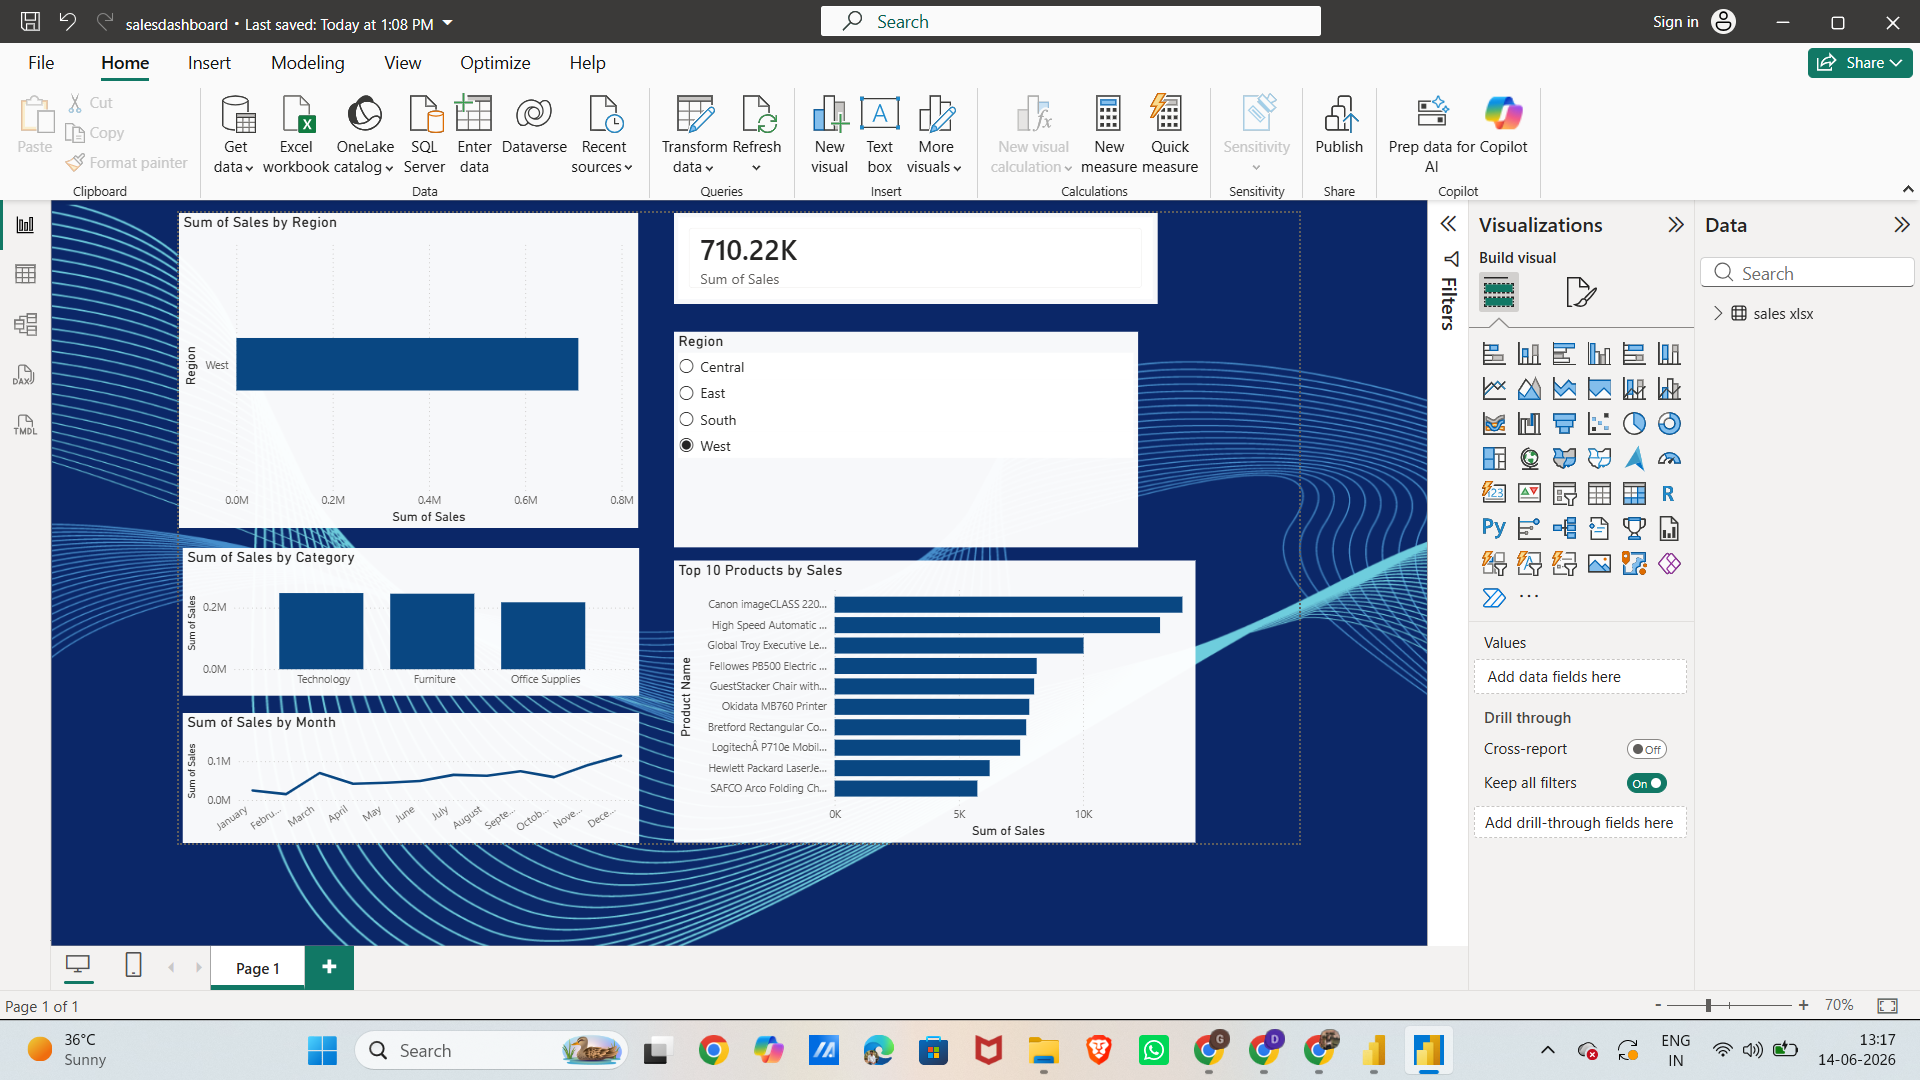

The dashboard page shown, as its layout file describes it:
{"tool":"powerbi","page":{"name":"Page 1","canvas":[1280,720],"ordinal":0},"visuals":[{"type":"clusteredBarChart","fields":{"Category":["sales xlsx.Region"],"Y":["Sum(sales xlsx.Sales)"]},"box":[0,0,525,360],"z":0},{"type":"clusteredColumnChart","fields":{"Category":["sales xlsx.Category"],"Y":["Sum(sales xlsx.Sales)"]},"box":[3.8,382.5,521.2,168.8],"z":1000},{"type":"lineChart","fields":{"Category":["sales xlsx.Order Date.Variation.Date Hierarchy.Month"],"Y":["Sum(sales xlsx.Sales)"]},"box":[3.8,571.2,521.2,148.8],"z":2000},{"type":"cardVisual","fields":{"Data":["Sum(sales xlsx.Sales)"]},"box":[566.2,0,552.5,103.8],"z":3000},{"type":"listSlicer","fields":{"Values":["sales xlsx.Region"]},"box":[566.2,136.2,530,246.2],"z":4000},{"type":"clusteredBarChart","title":"Top 10 Products by Sales","fields":{"Category":["sales xlsx.Product Name"],"Y":["Sum(sales xlsx.Sales)"]},"box":[566.2,397.5,596.2,322.5],"z":5000}]}

Visuals, with their boxes on the page's 1280x720 design canvas (x1, y1, x2, y2). These are canvas units, not pixel positions in the 1920x1080 screenshot, which may show the page scaled, cropped or inside an application window:
clusteredBarChart - sales xlsx.Region x Sum(sales xlsx.Sales): region(0, 0, 525, 360)
clusteredColumnChart - sales xlsx.Category x Sum(sales xlsx.Sales): region(4, 382, 525, 551)
lineChart - sales xlsx.Order Date.Variation.Date Hierarchy.Month x Sum(sales xlsx.Sales): region(4, 571, 525, 720)
cardVisual - Sum(sales xlsx.Sales): region(566, 0, 1119, 104)
listSlicer - sales xlsx.Region: region(566, 136, 1096, 382)
"Top 10 Products by Sales" clusteredBarChart: region(566, 398, 1162, 720)
